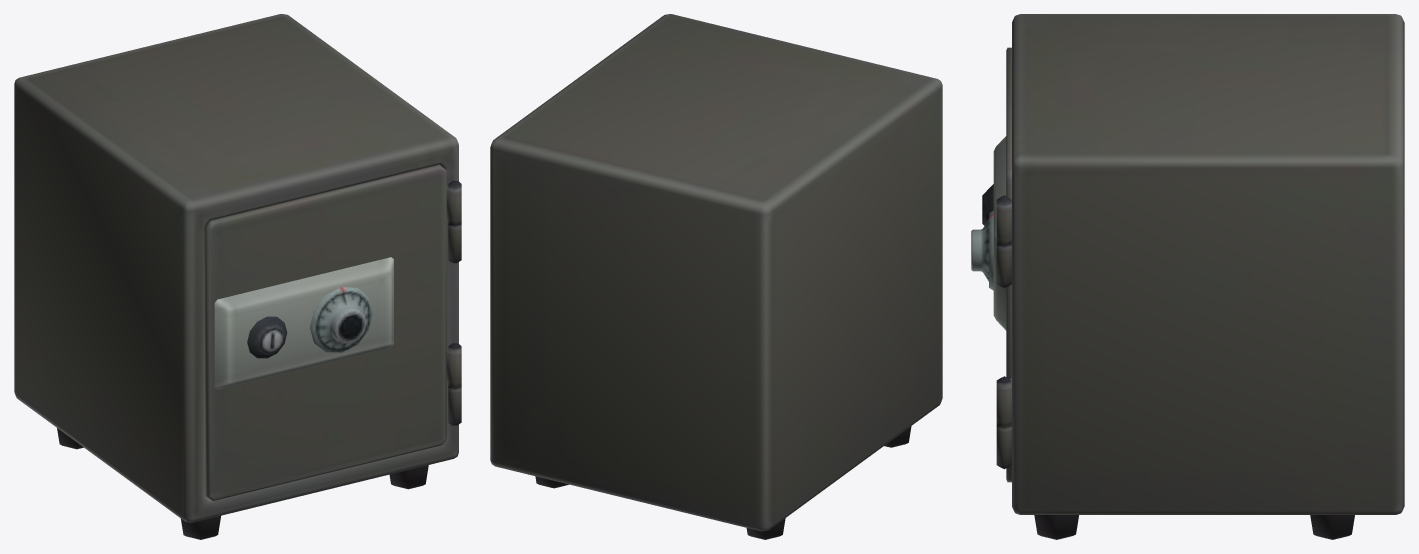
The picture shows the model from 3 angles, left to right: view 1: azimuth 30°, elevation 25°; view 2: azimuth 150°, elevation 25°; view 3: azimuth 270°, elevation 25°; orthographic projection. The views are drawn at different scales.
Bounding box in the file's own units: 7.39 × 9 × 9.05.
Materials: 1 (1 with a texture image).
